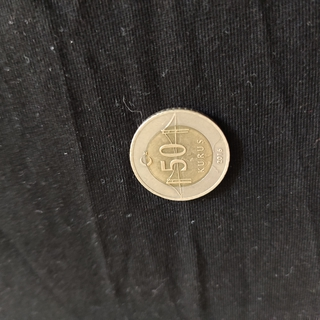50KURUS: (128, 107, 231, 201)
